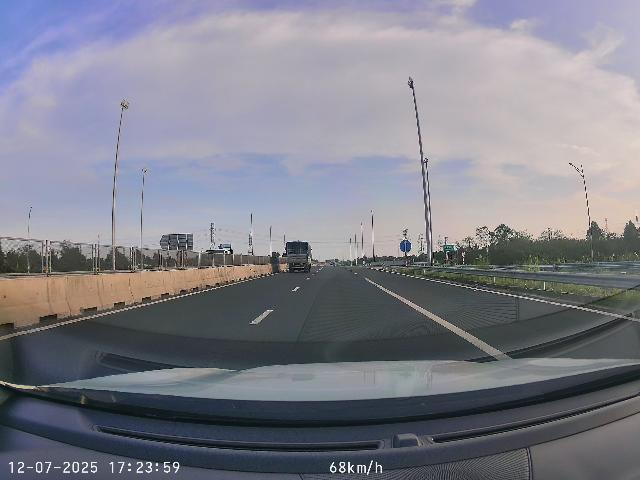301a-cac-xe-chi-duoc-di-thang: (399, 240, 412, 253)
